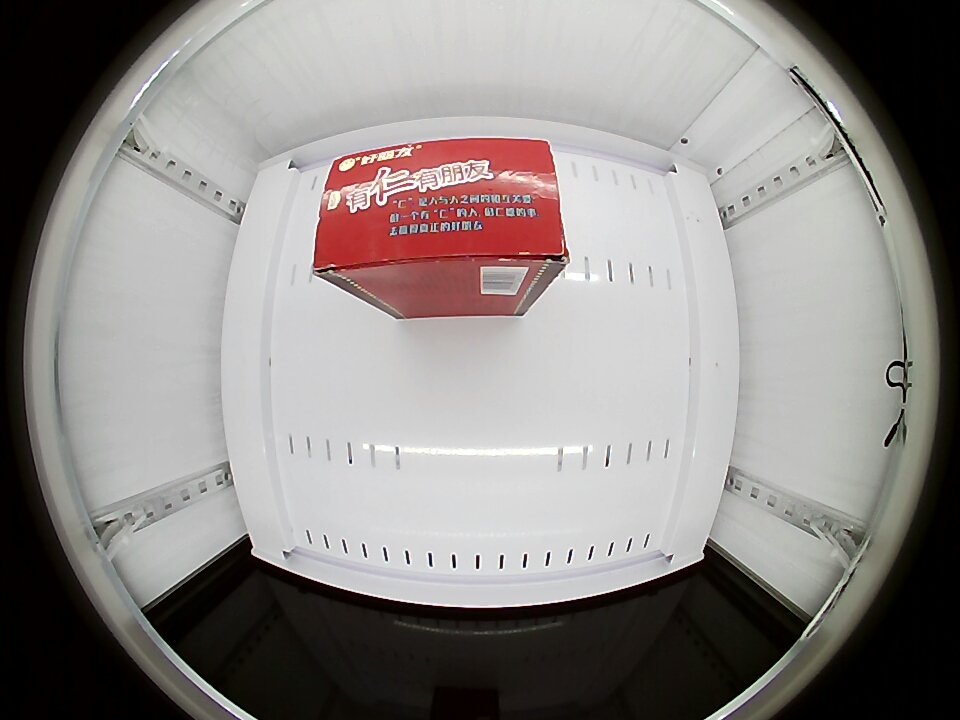haoliyou: (312, 137, 569, 308)
